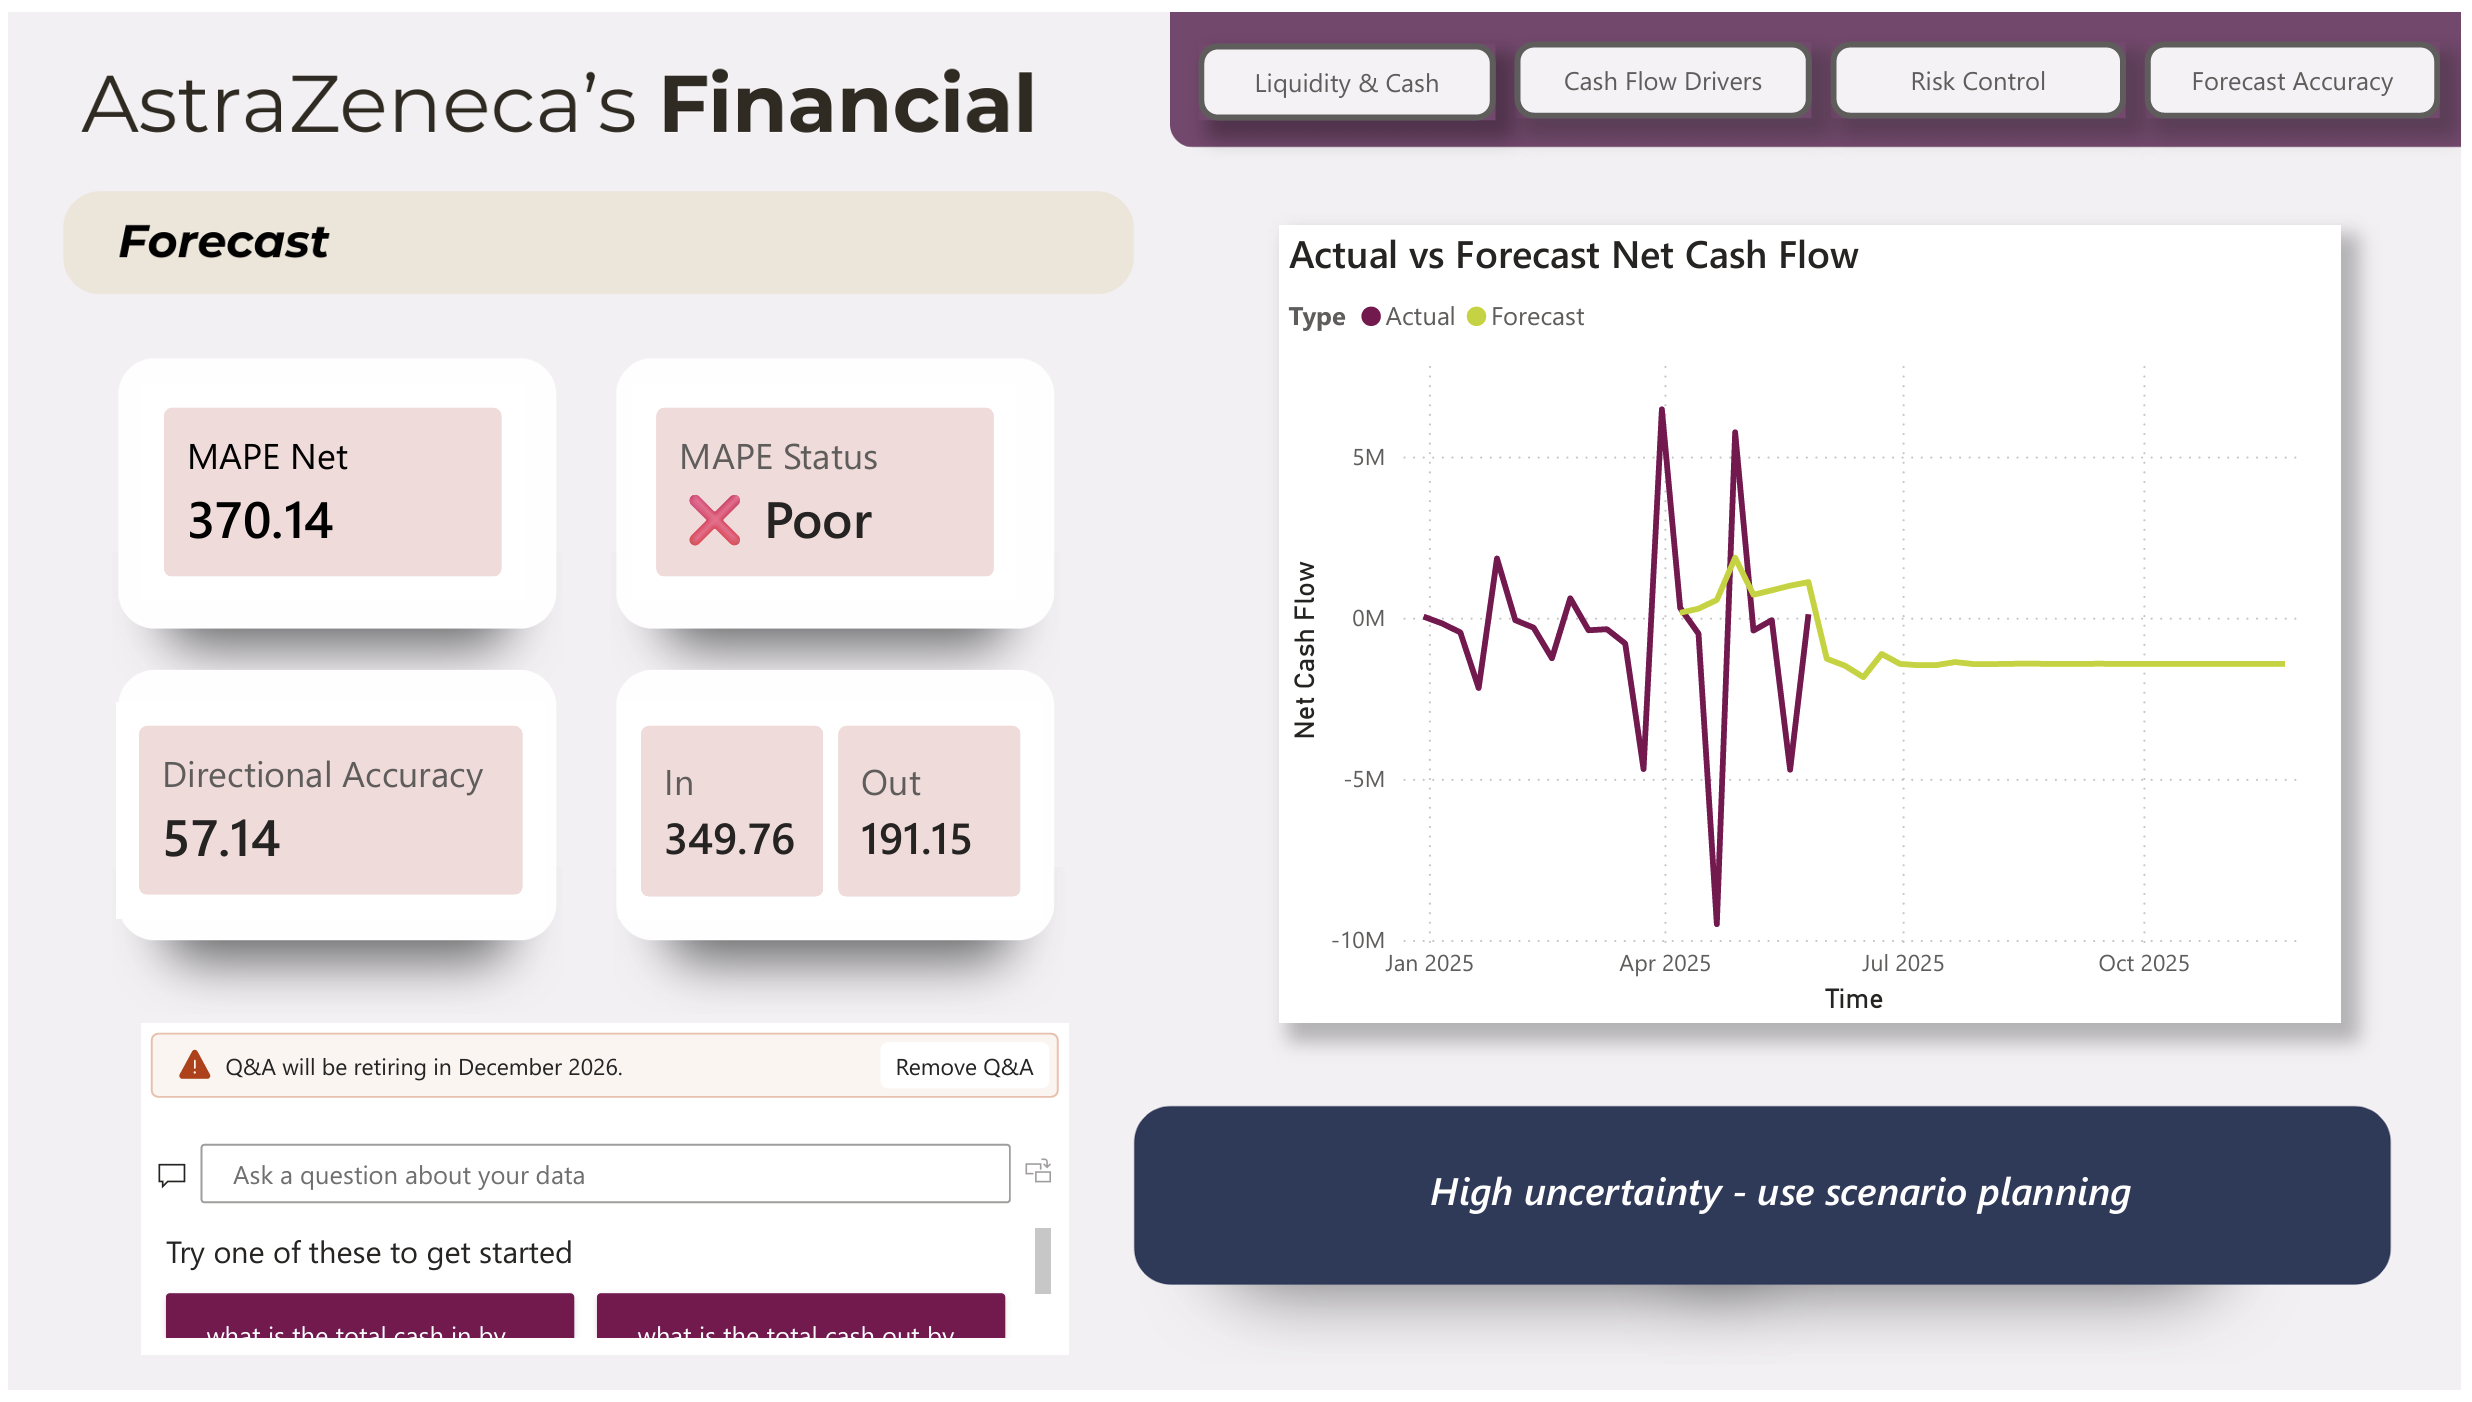

The page's visual inventory and layout, read from the dashboard file:
{"tool":"powerbi","page":{"name":"4 - Forecast","canvas":[1280,720],"ordinal":3},"visuals":[{"type":"actionButton","title":"Liquidity & Cash","box":[621.4,15.7,154.3,40],"z":0},{"type":"actionButton","title":"Liquidity & Cash","box":[786.4,15,154.3,40],"z":1000},{"type":"actionButton","title":"Liquidity & Cash","box":[950.7,15,154.3,40],"z":2000},{"type":"actionButton","title":"Liquidity & Cash","box":[1115,15,154.3,40],"z":3000},{"type":"lineChart","title":"Actual vs Forecast Net Cash Flow","fields":{"Y":["Sum(actual_vs_forecast_cashflow.Net_Cash_Flow)"],"Series":["actual_vs_forecast_cashflow.Type"],"Category":["actual_vs_forecast_cashflow.Week_Start"]},"box":[662.9,111.4,554.3,415.7],"z":4000},{"type":"cardVisual","fields":{"Data":["forecast_metrics.MAPE Net"]},"box":[68.6,194.3,200,112.9],"z":5000},{"type":"cardVisual","fields":{"Data":["forecast_metrics.MAPE Status"]},"box":[325.7,194.3,200,112.9],"z":6000},{"type":"cardVisual","fields":{"Data":["forecast_metrics.Directional Accuracy"]},"box":[55.7,360,224.3,112.9],"z":7000},{"type":"cardVisual","fields":{"Data":["forecast_metrics.MAPE Cash In","forecast_metrics.MAPE Cash Out"]},"box":[318,360,222,113],"z":8000},{"type":"qnaVisual","box":[68.6,527.1,484.3,172.9],"z":9000},{"type":"cardVisual","fields":{"Data":["forecast_metrics.Forecast Recommendation"]},"box":[712.9,575.7,472.9,72.9],"z":10000}]}

Visuals, with their boxes in screenshot pixels (x1, y1, x2, y2), scaled from the page's 1280x720 canvas onto the 2472x1402 screenshot:
"Liquidity & Cash" actionButton: select_region(1200, 31, 1498, 108)
"Liquidity & Cash" actionButton: select_region(1519, 29, 1817, 107)
"Liquidity & Cash" actionButton: select_region(1836, 29, 2134, 107)
"Liquidity & Cash" actionButton: select_region(2153, 29, 2451, 107)
"Actual vs Forecast Net Cash Flow" lineChart: select_region(1280, 217, 2351, 1026)
cardVisual - forecast_metrics.MAPE Net: select_region(132, 378, 519, 598)
cardVisual - forecast_metrics.MAPE Status: select_region(629, 378, 1015, 598)
cardVisual - forecast_metrics.Directional Accuracy: select_region(108, 701, 541, 921)
cardVisual - forecast_metrics.MAPE Cash In x forecast_metrics.MAPE Cash Out: select_region(614, 701, 1043, 921)
qnaVisual: select_region(132, 1026, 1068, 1363)
cardVisual - forecast_metrics.Forecast Recommendation: select_region(1377, 1121, 2290, 1263)
